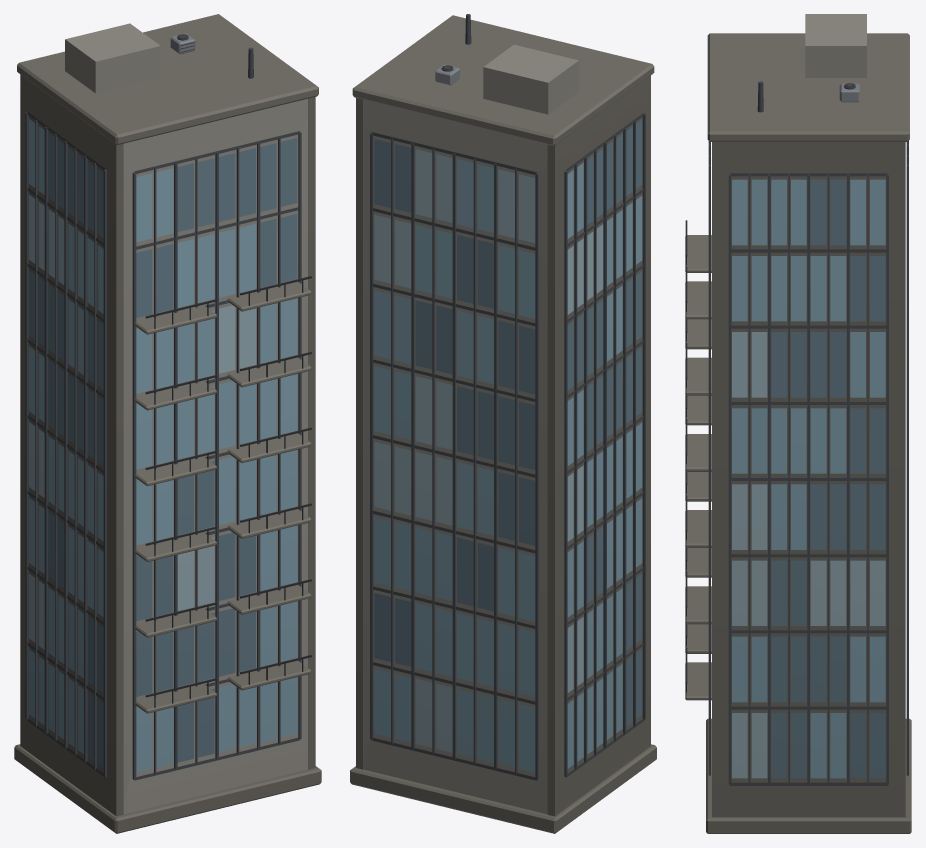
File: residential_highrise_01.glb
3 views of the same model, side by side, from view 1: azimuth 30°, elevation 25°; view 2: azimuth 150°, elevation 25°; view 3: azimuth 270°, elevation 25° (orthographic).
Parts seen in each view (by area): view 1: residential_highrise_01; view 2: residential_highrise_01; view 3: residential_highrise_01.
Part boxes in pixels (x1,y1,x2,y2): residential_highrise_01: (14,14,321,833); residential_highrise_01: (350,14,656,833); residential_highrise_01: (685,14,911,833).
Bounding box in the file's own units: 7 × 23.6 × 6.6.
